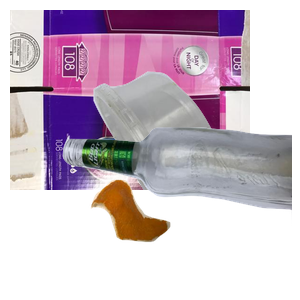cardboard: (10, 10, 250, 190)
glass: (60, 124, 300, 300)
plastic: (91, 69, 300, 249)
trash: (88, 177, 251, 300)
